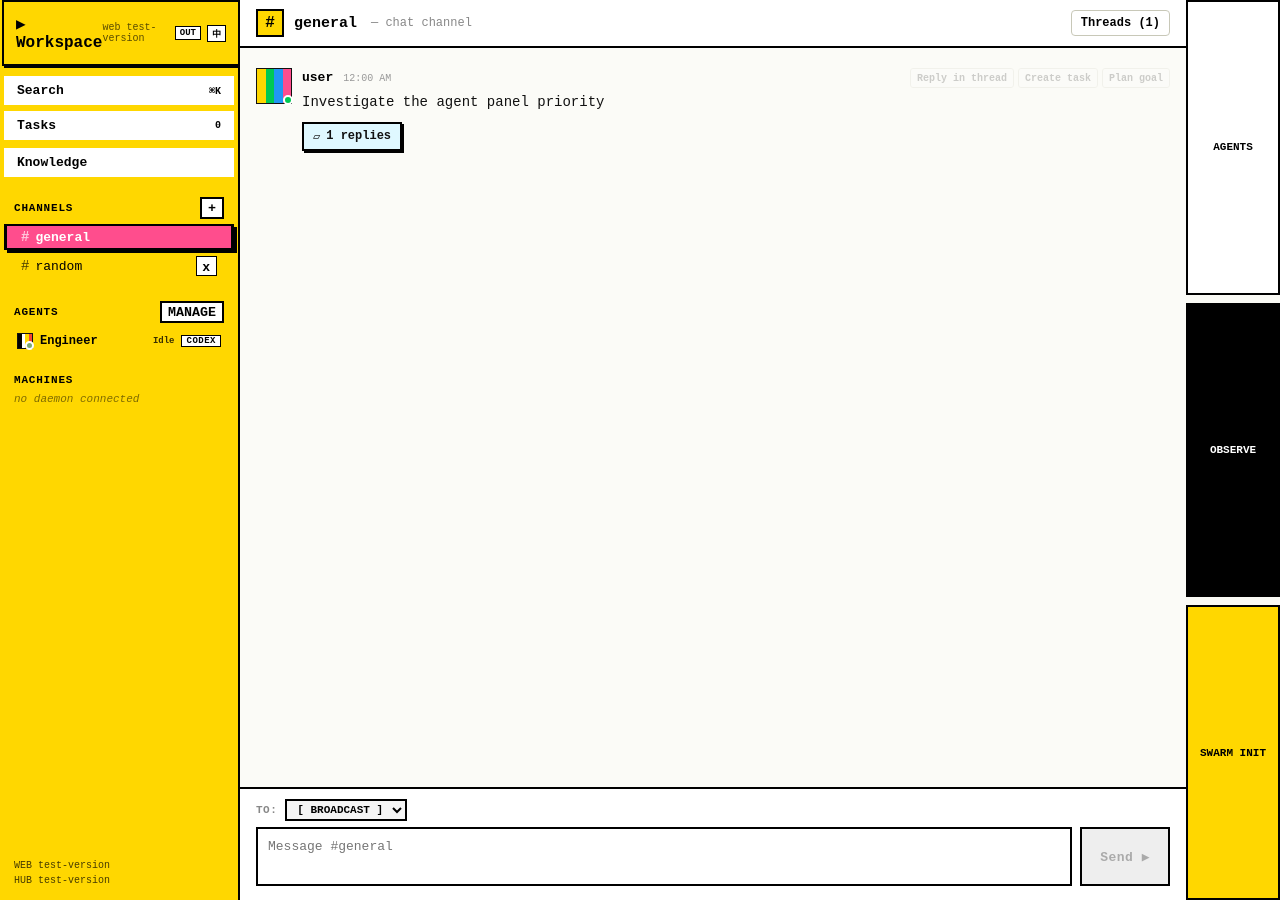
it: App › falls back to the machine id when the machine name is unavailable
Click the text "Engineer" at coordinates (69, 341), box [40,334,98,348]
(page scrolled)
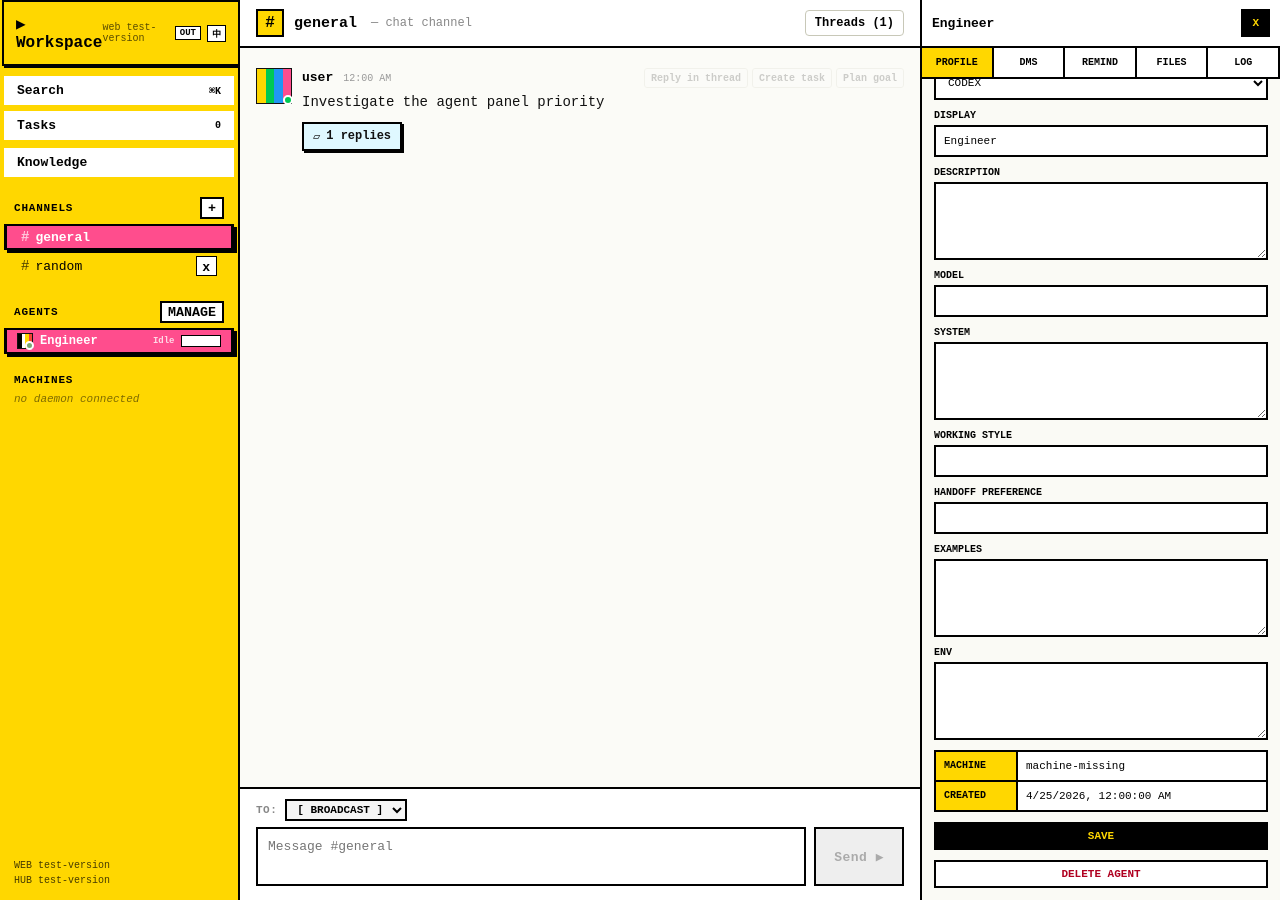
Expected: the text "machine-missing" is shown, [1026,760,1125,772]
